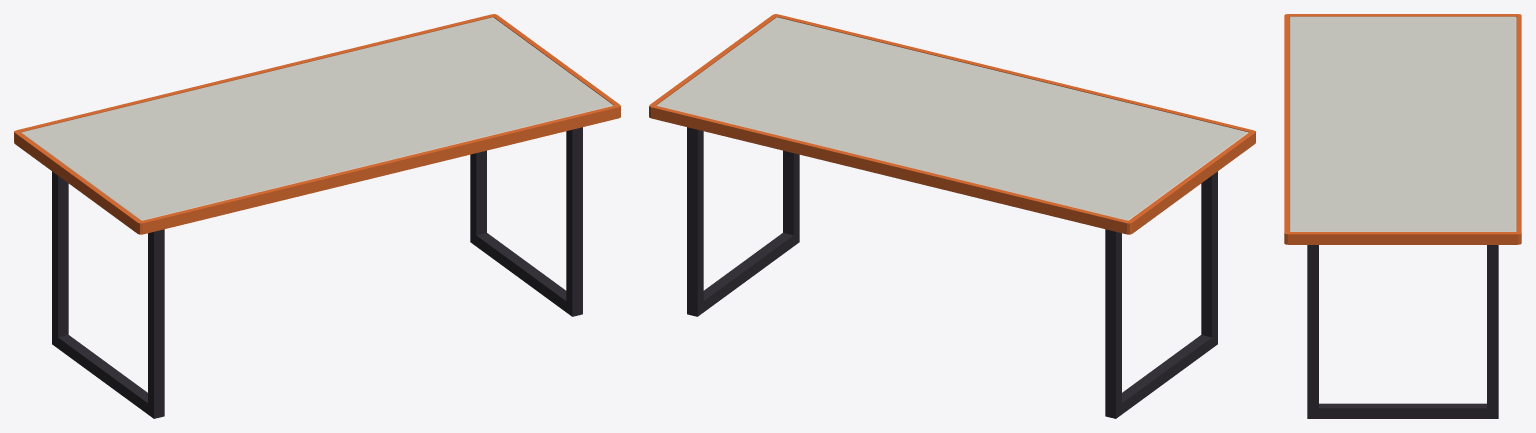
The model's file is school-canteen-rect-table.glb.
3 views of the same model, side by side, from view 1: azimuth 30°, elevation 25°; view 2: azimuth 150°, elevation 25°; view 3: azimuth 270°, elevation 25° (orthographic). The views are drawn at different scales.
Parts seen in each view (by area): view 1: White inset laminate work surface, Paired continuous dark U-shaped end frames, Bonded orange perimeter edge; view 2: White inset laminate work surface, Paired continuous dark U-shaped end frames, Bonded orange perimeter edge; view 3: White inset laminate work surface, Paired continuous dark U-shaped end frames, Bonded orange perimeter edge.
Part boxes in pixels (x1,y1,x2,y2): White inset laminate work surface: (21, 17, 613, 220); Paired continuous dark U-shaped end frames: (52, 127, 582, 418); Bonded orange perimeter edge: (14, 14, 620, 234); White inset laminate work surface: (656, 17, 1248, 220); Paired continuous dark U-shaped end frames: (687, 127, 1217, 418); Bonded orange perimeter edge: (649, 14, 1255, 234); White inset laminate work surface: (1289, 16, 1516, 231); Paired continuous dark U-shaped end frames: (1307, 245, 1498, 418); Bonded orange perimeter edge: (1284, 14, 1521, 244).
Bounding box in the file's own units: 1.8 × 0.75 × 0.82.
